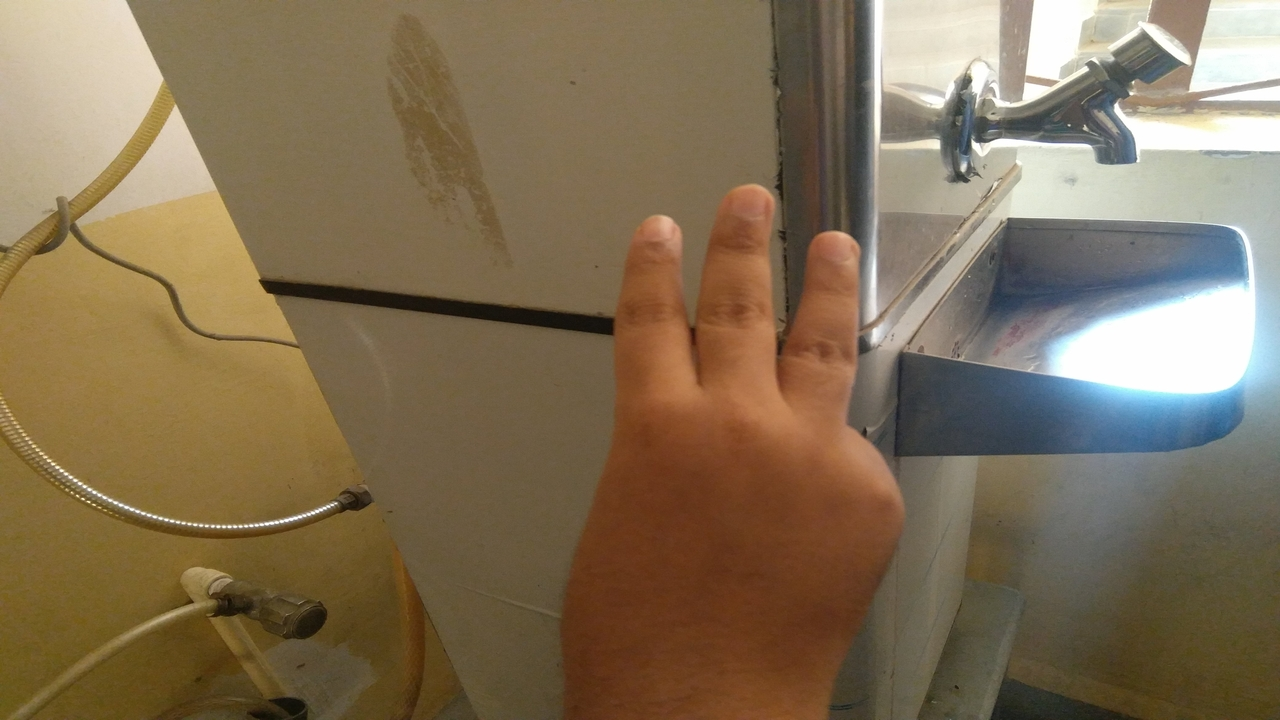fingertip: (708, 174, 776, 232), (804, 222, 862, 280), (622, 206, 686, 258)
